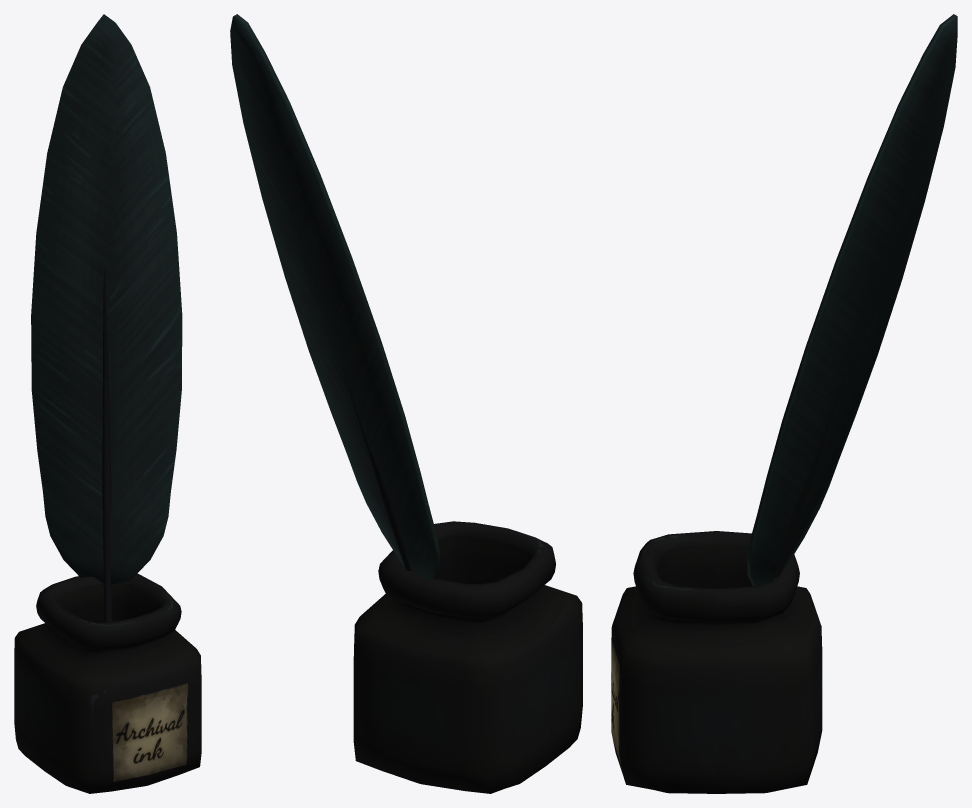
The picture shows the model from 3 angles, left to right: view 1: azimuth 30°, elevation 25°; view 2: azimuth 150°, elevation 25°; view 3: azimuth 270°, elevation 25°; orthographic projection. The views are drawn at different scales.
Visible parts, largest first — view 1: Quill_1, Inkwell_0; view 2: Inkwell_0, Quill_1; view 3: Inkwell_0, Quill_1.
Part boxes in pixels (bbox=[...]): Quill_1: bbox=[31, 14, 182, 622]; Inkwell_0: bbox=[14, 573, 201, 793]; Inkwell_0: bbox=[353, 521, 582, 793]; Quill_1: bbox=[230, 14, 439, 580]; Inkwell_0: bbox=[611, 531, 822, 793]; Quill_1: bbox=[747, 14, 957, 586].
Bounding box in the file's own units: 0.135 × 0.4495 × 0.1758.
Materials: 2 (2 with a texture image).
